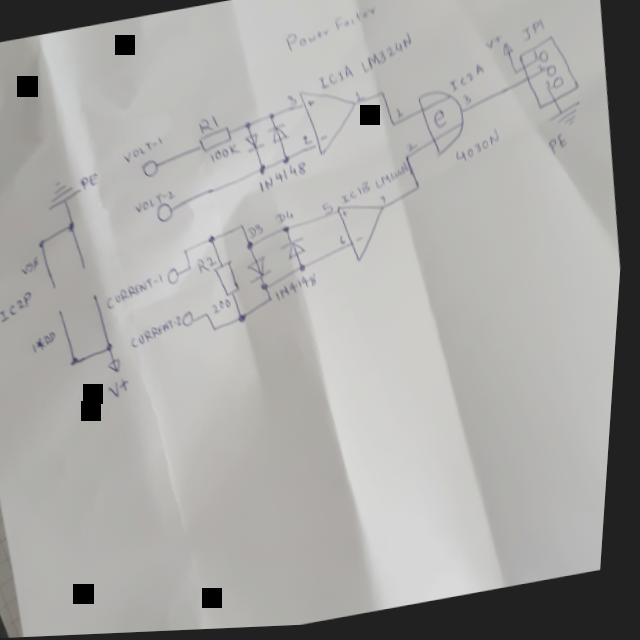diode: (280, 235, 313, 269), (247, 255, 275, 291), (266, 122, 293, 152), (242, 130, 269, 156)
ground: (43, 174, 87, 215), (544, 104, 585, 137)
junction: (72, 354, 85, 368), (107, 341, 120, 355), (37, 237, 50, 250), (67, 220, 79, 234), (240, 313, 251, 326), (283, 226, 294, 236), (282, 157, 293, 167), (259, 165, 268, 177), (247, 242, 257, 252), (267, 112, 277, 122), (263, 283, 273, 293), (209, 235, 218, 246), (244, 121, 253, 130), (390, 122, 398, 132), (184, 247, 192, 256), (379, 91, 386, 101), (240, 222, 247, 232), (269, 297, 276, 306), (215, 326, 222, 334), (206, 311, 213, 319), (416, 186, 423, 194), (302, 266, 309, 274), (513, 72, 520, 80), (189, 266, 196, 273), (404, 156, 410, 163)
resistor: (213, 257, 246, 302), (196, 125, 236, 157)
source: (110, 358, 126, 375), (500, 44, 515, 62)
terminal: (515, 36, 584, 117), (156, 198, 178, 225), (141, 157, 163, 180), (183, 308, 199, 329), (169, 268, 184, 287), (93, 291, 103, 303), (82, 261, 91, 272), (53, 282, 63, 290), (59, 307, 66, 315)
text: (281, 7, 380, 56), (355, 32, 417, 82), (104, 271, 172, 314), (256, 161, 312, 199), (132, 314, 189, 351), (453, 131, 504, 167), (132, 187, 182, 218), (274, 274, 325, 304), (120, 135, 167, 166), (447, 63, 488, 98), (372, 162, 415, 195), (0, 288, 39, 324), (314, 64, 358, 94), (336, 181, 377, 211), (207, 142, 244, 167), (32, 327, 63, 354), (517, 21, 547, 48), (18, 254, 46, 278), (547, 136, 571, 162), (109, 377, 136, 400), (197, 113, 222, 137), (198, 253, 222, 277), (273, 209, 299, 229), (79, 171, 102, 192), (213, 298, 236, 317), (482, 36, 504, 55), (249, 224, 268, 242), (321, 201, 336, 219), (393, 106, 406, 124), (352, 91, 365, 108), (461, 96, 474, 111), (302, 135, 315, 150), (286, 94, 298, 110), (407, 142, 420, 156), (305, 98, 318, 112), (339, 236, 349, 249), (321, 135, 331, 146), (342, 209, 351, 221), (380, 197, 389, 208), (357, 236, 366, 246)
